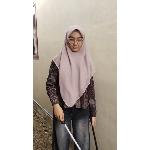Pedang: (54, 106, 86, 150)
